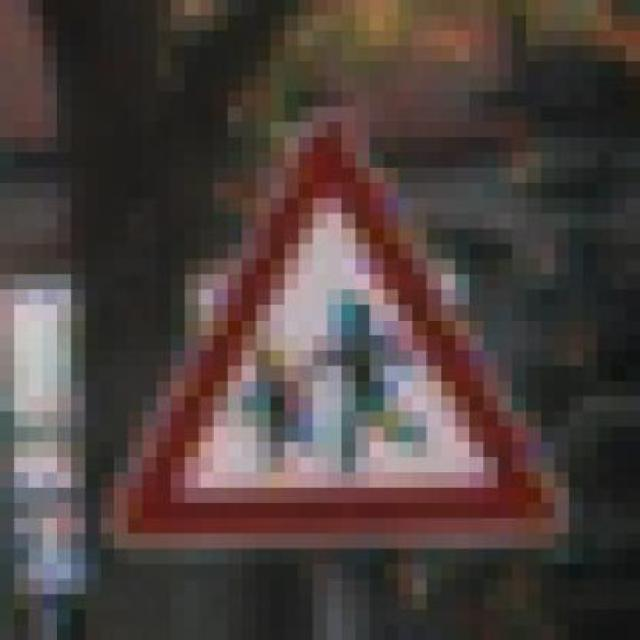Beware of children: (85, 91, 583, 564)
